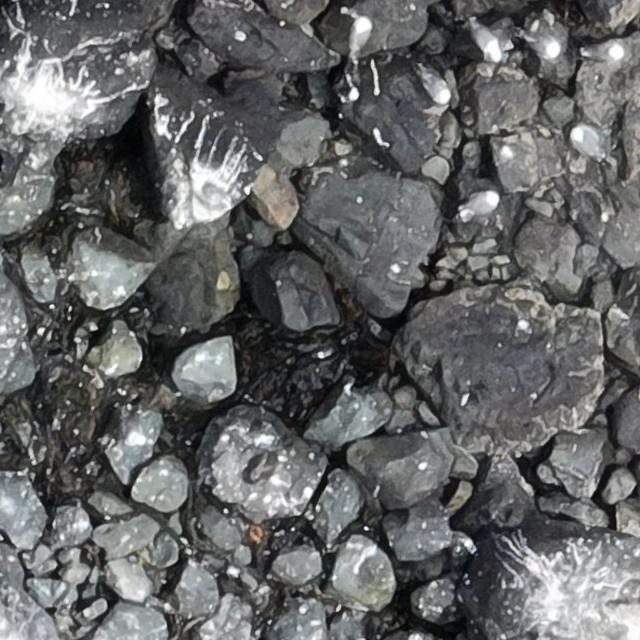umineko: (574, 128, 610, 162), (476, 22, 506, 61), (421, 70, 453, 103), (532, 35, 561, 56), (589, 44, 624, 61), (467, 192, 496, 212), (353, 19, 370, 49)
